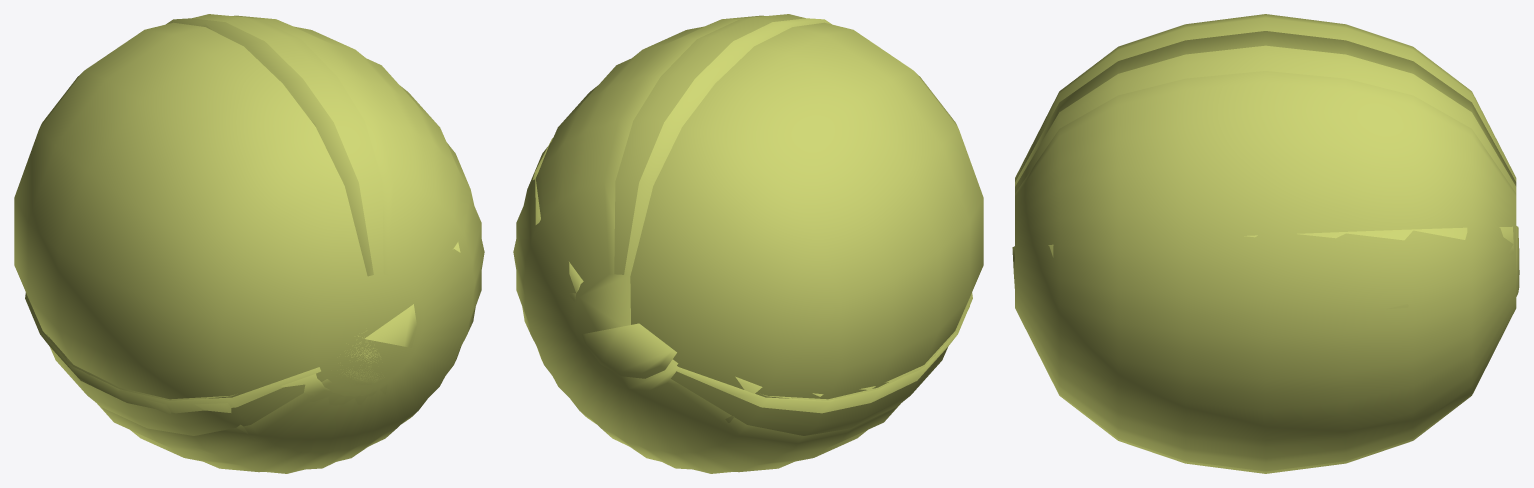
Rendered from Watermelon.fbx.
3 renders of one model, left to right at view 1: azimuth 30°, elevation 25°; view 2: azimuth 150°, elevation 25°; view 3: azimuth 270°, elevation 25°, orthographic. The views are drawn at different scales.
Parts seen in each view (by area): view 1: Watermelon4/4, Watermelon3/4, Watermelon2/4, Watermelon1/4; view 2: Watermelon4/4, Watermelon3/4, Watermelon2/4; view 3: Watermelon4/4, Watermelon3/4, Watermelon2/4.
Part boxes in pixels (x1,y1,x2,y2): Watermelon4/4: [14, 14, 481, 473]; Watermelon3/4: [25, 15, 484, 472]; Watermelon2/4: [36, 242, 460, 453]; Watermelon1/4: [26, 294, 384, 400]; Watermelon4/4: [516, 14, 983, 473]; Watermelon3/4: [513, 15, 972, 472]; Watermelon2/4: [532, 138, 969, 422]; Watermelon4/4: [1015, 14, 1516, 471]; Watermelon3/4: [1015, 31, 1516, 473]; Watermelon2/4: [1012, 226, 1519, 309].
Bounding box in the file's own units: 13.55 × 13.69 × 15.
